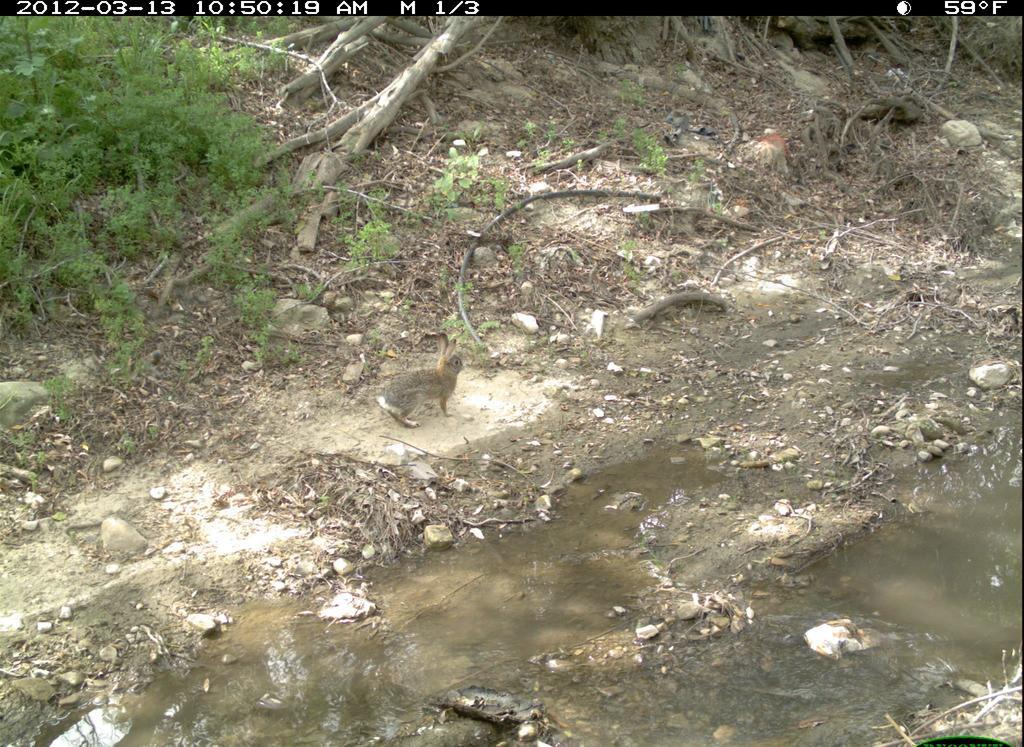rabbit: (372, 326, 472, 438)
